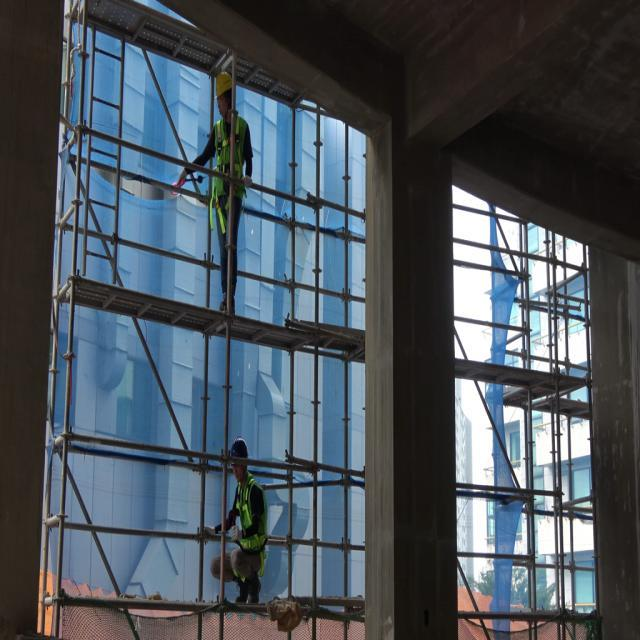belt: (210, 114, 247, 225), (234, 472, 266, 576)
